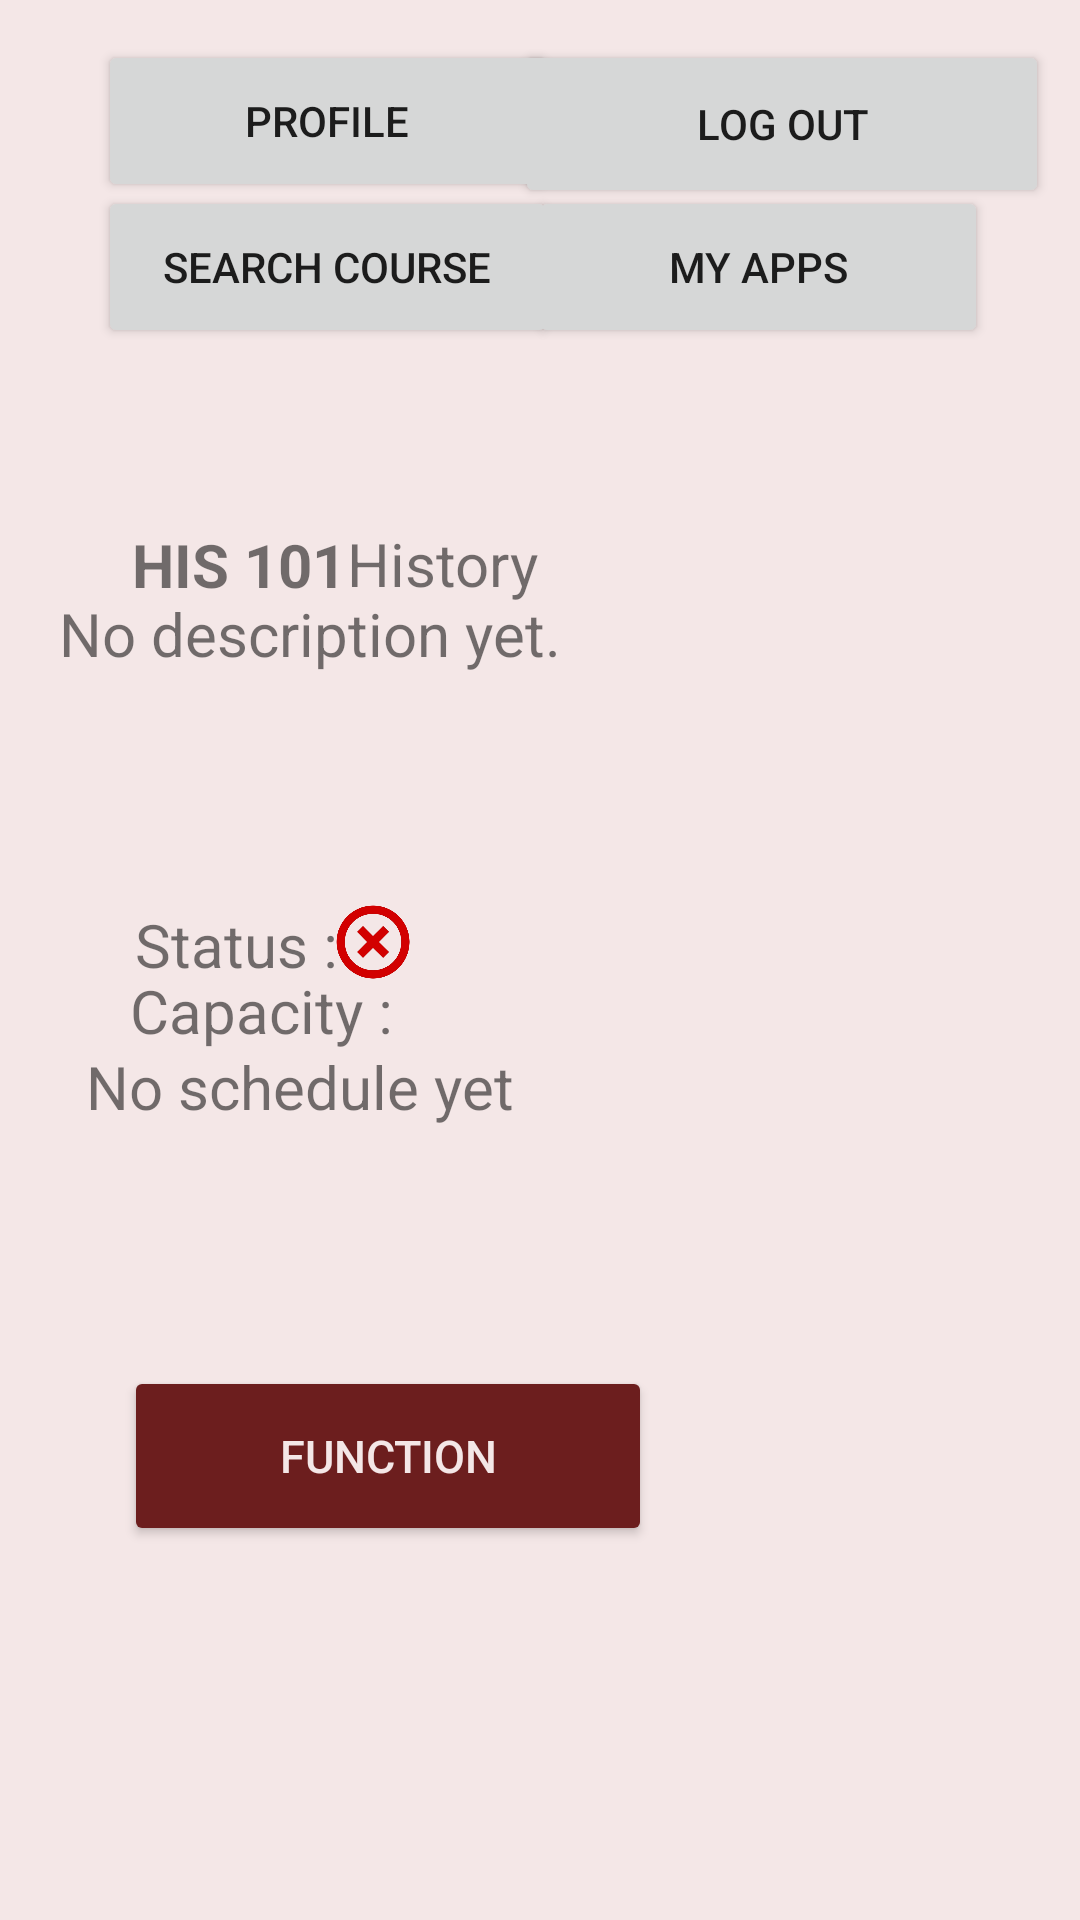

Locate icon controls on the screen. Image size 1080px x 1920px, boxes as rect(x1, y1, x2, y2).
redcross: rect(327, 905, 410, 979)
